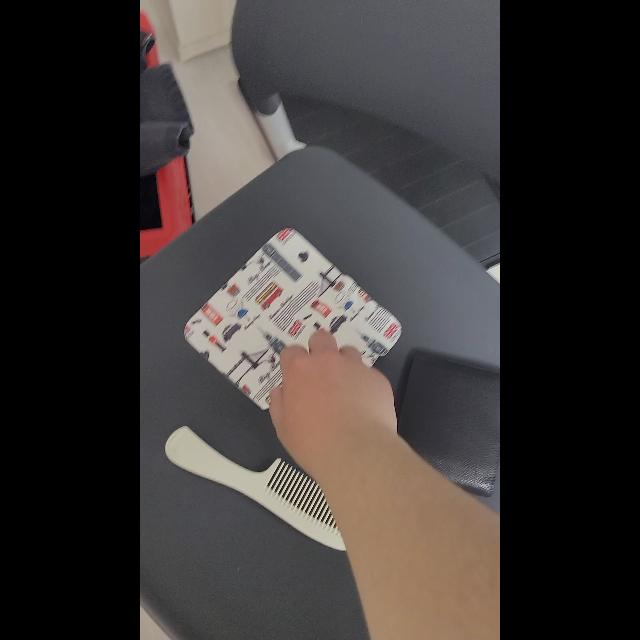COMB: (166, 426, 347, 552)
Glasses cleaning cloth: (184, 228, 402, 412)
WALLET: (396, 349, 500, 497)
